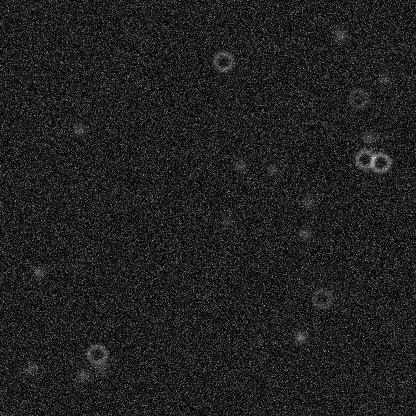Ring: (211, 49, 235, 73), (353, 146, 377, 170), (84, 342, 108, 366), (345, 86, 369, 110), (368, 150, 392, 174), (309, 286, 333, 310)
Spot: (75, 367, 91, 383), (296, 225, 312, 241), (94, 360, 110, 376), (218, 213, 234, 229), (30, 264, 46, 280), (292, 328, 308, 344), (71, 121, 87, 137), (361, 129, 377, 145), (376, 70, 392, 86), (299, 193, 315, 209), (332, 26, 348, 42), (374, 59, 390, 75), (292, 82, 308, 98), (231, 157, 247, 173), (23, 359, 39, 375), (263, 161, 279, 177)
